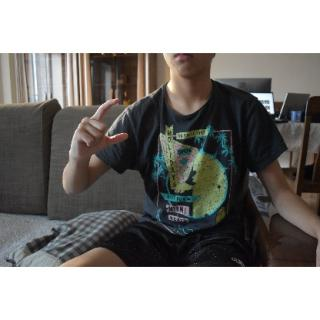DELL: (66, 96, 134, 162)
